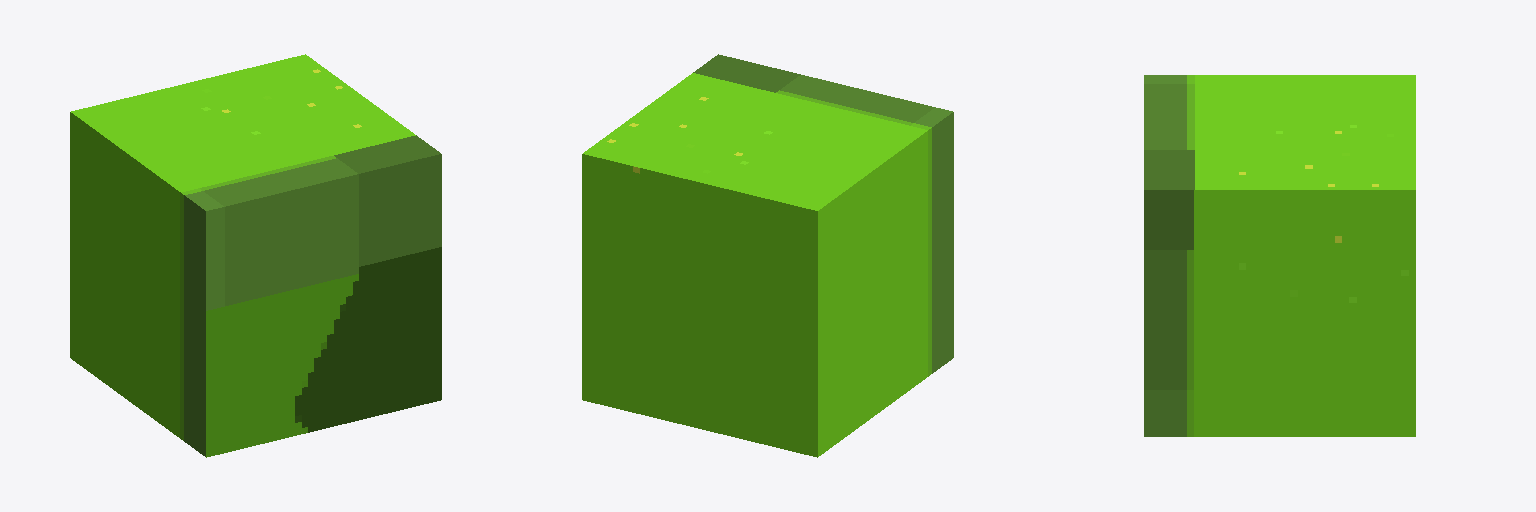
3 renders of one model, left to right at view 1: azimuth 30°, elevation 25°; view 2: azimuth 150°, elevation 25°; view 3: azimuth 270°, elevation 25°, orthographic.
Parts seen in each view (by area): view 1: ground; view 2: ground; view 3: ground.
Boxes of the visible parts, box(x1,y1,x2,y2) form: ground: box(70, 54, 441, 457); ground: box(582, 54, 953, 457); ground: box(1144, 75, 1415, 436).
Size of the model in its own units: 100 by 100 by 100.
1 materials, 1 textured.